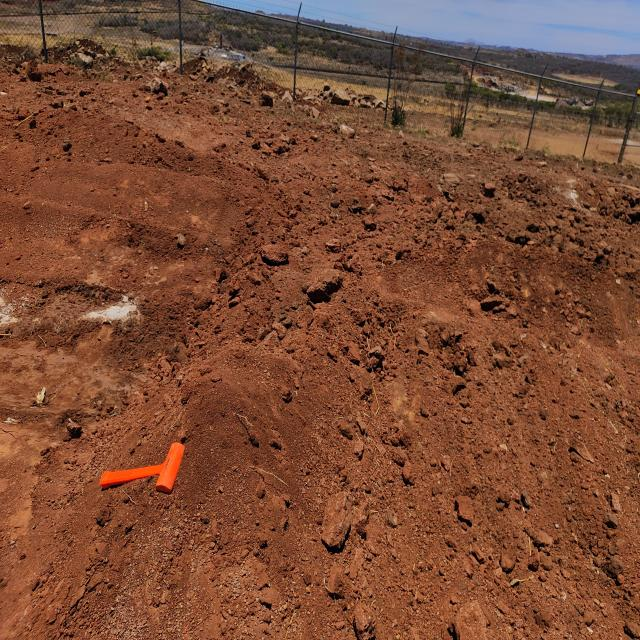Orange_hammer: (98, 441, 185, 494)
